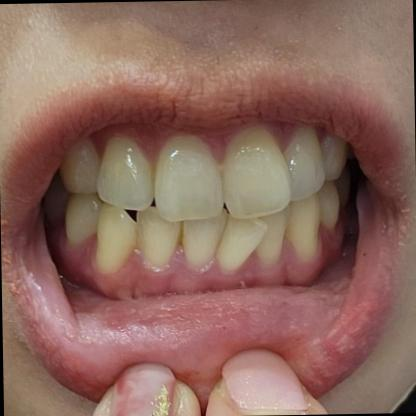Crowding: (215, 212, 288, 279)
